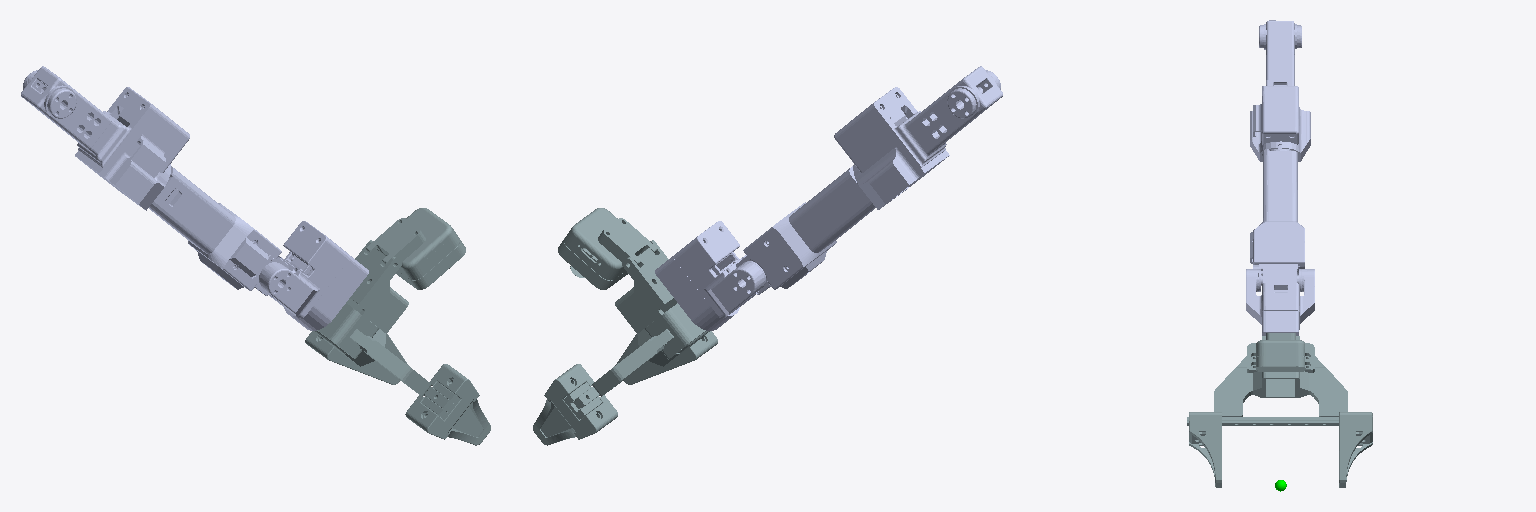
The robot description file, URDF, robot "Alicia_D_v5_6_gripper_100mm":
<?xml version="1.0" encoding="utf-8"?>
<!-- This URDF was automatically created by SolidWorks to URDF Exporter! Originally created by Stephen Brawner (brawner@gmail.com) 
     Commit Version: 1.6.0-4-g7f85cfe  Build Version: 1.6.7995.38578
     For more information, please see http://wiki.ros.org/sw_urdf_exporter -->
<robot
  name="Alicia_D_v5_6_gripper_100mm">
 <mujoco>
    <compiler meshdir="package://alicia_d_descriptions/meshes/Alicia_D_v5_6/gripper_100mm" discardvisual="false" />
    <contact>
      <exclude body1="base_link" body2="Link1"/>
      <exclude body1="Link1" body2="Link2"/>
      <exclude body1="Link2" body2="Link3"/>
      <exclude body1="Link3" body2="Link4"/>
      <exclude body1="Link4" body2="Link5"/>
      <exclude body1="Link5" body2="Link6"/>
      <exclude body1="Link6" body2="left_gripper"/>
      <exclude body1="left_gripper" body2="right_gripper"/>
    </contact>
  </mujoco>



  <link
    name="base_link">
    <inertial>
      <origin
        xyz="-0.000826234810794059 -0.00797844272739653 0.0457675129552246"
        rpy="0 0 0" />
      <mass
        value="0.733961424954529" />
      <inertia
        ixx="0.00138410344771801"
        ixy="5.67201110348386E-05"
        ixz="-5.14360166026408E-07"
        iyy="0.00173617223702126"
        iyz="1.48652204582846E-05"
        izz="0.00274667683204281" />
    </inertial>
    <visual>
      <origin
        xyz="0 0 0"
        rpy="0 0 0" />
      <geometry>
        <mesh
          filename="package://alicia_d_descriptions/meshes/Alicia_D_v5_6/gripper_100mm/base_link.STL" />
      </geometry>
      <material
        name="">
        <color
          rgba="0.807843137254902 0.843137254901961 0.905882352941176 1" />
      </material>
    </visual>
    <collision>
      <origin
        xyz="0 0 0"
        rpy="0 0 0" />
      <geometry>
        <mesh
          filename="package://alicia_d_descriptions/meshes/Alicia_D_v5_6/gripper_100mm/base_link.STL" />
      </geometry>
    </collision>
  </link>
  <link
    name="Link1">
    <inertial>
      <origin
        xyz="0.000230589777408925 1.29106264207593E-05 0.00303135439825203"
        rpy="0 0 0" />
      <mass
        value="0.195233495556057" />
      <inertia
        ixx="0.000258351163283404"
        ixy="8.79399970494642E-07"
        ixz="6.87503893065992E-07"
        iyy="0.000149307749091489"
        iyz="1.07703883392669E-06"
        izz="0.000339791347248474" />
    </inertial>
    <visual>
      <origin
        xyz="0 0 0"
        rpy="0 0 0" />
      <geometry>
        <mesh
          filename="package://alicia_d_descriptions/meshes/Alicia_D_v5_6/gripper_100mm/Link1.STL" />
      </geometry>
      <material
        name="">
        <color
          rgba="0.796078431372549 0.823529411764706 0.937254901960784 1" />
      </material>
    </visual>
    <collision>
      <origin
        xyz="0 0 0"
        rpy="0 0 0" />
      <geometry>
        <mesh
          filename="package://alicia_d_descriptions/meshes/Alicia_D_v5_6/gripper_100mm/Link1.STL" />
      </geometry>
    </collision>
  </link>
  <joint
    name="Joint1"
    type="revolute">
    <origin
      xyz="0 0 0.1295"
      rpy="0 0 0" />
    <parent
      link="base_link" />
    <child
      link="Link1" />
    <axis
      xyz="0 0 1" />
    <limit
      lower="-2.749"
      upper="2.749"
      effort="5"
      velocity="12" />
  </joint>
  <link
    name="Link2">
    <inertial>
      <origin
        xyz="-0.1505886956238 0.000866069014068702 -0.000650950596117093"
        rpy="0 0 0" />
      <mass
        value="0.207033693066089" />
      <inertia
        ixx="0.000128135500182744"
        ixy="-1.38510377197406E-07"
        ixz="-4.91817924862077E-06"
        iyy="0.000205708390606615"
        iyz="3.50025102961721E-07"
        izz="0.000122721347334006" />
    </inertial>
    <visual>
      <origin
        xyz="0 0 0"
        rpy="0 0 0" />
      <geometry>
        <mesh
          filename="package://alicia_d_descriptions/meshes/Alicia_D_v5_6/gripper_100mm/Link2.STL" />
      </geometry>
      <material
        name="">
        <color
          rgba="0.807843137254902 0.843137254901961 0.905882352941176 1" />
      </material>
    </visual>
    <collision>
      <origin
        xyz="0 0 0"
        rpy="0 0 0" />
      <geometry>
        <mesh
          filename="package://alicia_d_descriptions/meshes/Alicia_D_v5_6/gripper_100mm/Link2.STL" />
      </geometry>
    </collision>
  </link>
  <joint
    name="Joint2"
    type="revolute">
    <origin
      xyz="0 0 0.04287"
      rpy="1.5708 1.5708 0" />
    <parent
      link="Link1" />
    <child
      link="Link2" />
    <axis
      xyz="0 0 1" />
    <limit
      lower="-2"
      upper="2"
      effort="5"
      velocity="12" />
  </joint>
  <link
    name="Link3">
    <inertial>
      <origin
        xyz="0.00248143780493948 -0.055786318961577 0.000269721187496484"
        rpy="0 0 0" />
      <mass
        value="0.0845575651613574" />
      <inertia
        ixx="7.61918348100336E-05"
        ixy="2.26498126057066E-06"
        ixz="-3.82299410321316E-07"
        iyy="2.87941469642104E-05"
        iyz="5.38445498652279E-06"
        izz="8.04370650316099E-05" />
    </inertial>
    <visual>
      <origin
        xyz="0 0 0"
        rpy="0 0 0" />
      <geometry>
        <mesh
          filename="package://alicia_d_descriptions/meshes/Alicia_D_v5_6/gripper_100mm/Link3.STL" />
      </geometry>
      <material
        name="">
        <color
          rgba="0.792156862745098 0.819607843137255 0.933333333333333 1" />
      </material>
    </visual>
    <collision>
      <origin
        xyz="0 0 0"
        rpy="0 0 0" />
      <geometry>
        <mesh
          filename="package://alicia_d_descriptions/meshes/Alicia_D_v5_6/gripper_100mm/Link3.STL" />
      </geometry>
    </collision>
  </link>
  <joint
    name="Joint3"
    type="revolute">
    <origin
      xyz="-0.22367 0.022492 -5E-05"
      rpy="0 0 2.3562" />
    <parent
      link="Link2" />
    <child
      link="Link3" />
    <axis
      xyz="0 0 1" />
    <limit
      lower="-0.5"
      upper="3.14159"
      effort="5"
      velocity="12" />
  </joint>
  <link
    name="Link4">
    <inertial>
      <origin
        xyz="-0.000298365512111376 -0.000601368976746215 -0.0659740390150152"
        rpy="0 0 0" />
      <mass
        value="0.0653695951425785" />
      <inertia
        ixx="7.03004188045042E-05"
        ixy="9.68417873789794E-09"
        ixz="-7.50131710418784E-07"
        iyy="6.87470297837511E-05"
        iyz="-4.45271910827907E-08"
        izz="1.68226189340094E-05" />
    </inertial>
    <visual>
      <origin
        xyz="0 0 0"
        rpy="0 0 0" />
      <geometry>
        <mesh
          filename="package://alicia_d_descriptions/meshes/Alicia_D_v5_6/gripper_100mm/Link4.STL" />
      </geometry>
      <material
        name="">
        <color
          rgba="0.792156862745098 0.819607843137255 0.933333333333333 1" />
      </material>
    </visual>
    <collision>
      <origin
        xyz="0 0 0"
        rpy="0 0 0" />
      <geometry>
        <mesh
          filename="package://alicia_d_descriptions/meshes/Alicia_D_v5_6/gripper_100mm/Link4.STL" />
      </geometry>
    </collision>
  </link>
  <joint
    name="Joint4"
    type="revolute">
    <origin
      xyz="-0.00211 -0.099 0.0002"
      rpy="-1.5708 0 0" />
    <parent
      link="Link3" />
    <child
      link="Link4" />
    <axis
      xyz="0 0 1" />
    <limit
      lower="-2.79"
      upper="2.79"
      effort="5"
      velocity="12" />
  </joint>
  <link
    name="Link5">
    <inertial>
      <origin
        xyz="-0.0113684232423691 -0.0308687473010146 0.000870449928863028"
        rpy="0 0 0" />
      <mass
        value="0.050763902309721" />
      <inertia
        ixx="1.87701017069596E-05"
        ixy="-2.01098609554627E-06"
        ixz="5.15226540328947E-08"
        iyy="2.51021034553581E-05"
        iyz="-4.22412453521615E-08"
        izz="1.7257171014064E-05" />
    </inertial>
    <visual>
      <origin
        xyz="0 0 0"
        rpy="0 0 0" />
      <geometry>
        <mesh
          filename="package://alicia_d_descriptions/meshes/Alicia_D_v5_6/gripper_100mm/Link5.STL" />
      </geometry>
      <material
        name="">
        <color
          rgba="0.792156862745098 0.819607843137255 0.933333333333333 1" />
      </material>
    </visual>
    <collision>
      <origin
        xyz="0 0 0"
        rpy="0 0 0" />
      <geometry>
        <mesh
          filename="package://alicia_d_descriptions/meshes/Alicia_D_v5_6/gripper_100mm/Link5.STL" />
      </geometry>
    </collision>
  </link>
  <joint
    name="Joint5"
    type="revolute">
    <origin
      xyz="0 -0.0005 -0.12235"
      rpy="1.5708 0 -3.1416" />
    <parent
      link="Link4" />
    <child
      link="Link5" />
    <axis
      xyz="0 0 -1" />
    <limit
      lower="-1.57"
      upper="1.57"
      effort="5"
      velocity="12" />
  </joint>
  <link
    name="Link6">
    <inertial>
      <origin
        xyz="-0.029248098562467 -0.00016882200980945 0.0345028311825817"
        rpy="0 0 0" />
      <mass
        value="0.119820573151617" />
      <inertia
        ixx="8.13589561206242E-05"
        ixy="1.00502626880445E-08"
        ixz="-3.58286144151259E-06"
        iyy="3.33372461494345E-05"
        iyz="2.08982135984784E-08"
        izz="8.69091055900091E-05" />
    </inertial>
    <visual>
      <origin
        xyz="0 0 0"
        rpy="0 0 0" />
      <geometry>
        <mesh
          filename="package://alicia_d_descriptions/meshes/Alicia_D_v5_6/gripper_100mm/Link6.STL" />
      </geometry>
      <material
        name="">
        <color
          rgba="0.592156862745098 0.666666666666667 0.682352941176471 1" />
      </material>
    </visual>
    <collision>
      <origin
        xyz="0 0 0"
        rpy="0 0 0" />
      <geometry>
        <mesh
          filename="package://alicia_d_descriptions/meshes/Alicia_D_v5_6/gripper_100mm/Link6.STL" />
      </geometry>
    </collision>
  </link>
  <joint
    name="Joint6"
    type="revolute">
    <origin
      xyz="-0.00385 -0.0575 0.001"
      rpy="1.5708 0 0" />
    <parent
      link="Link5" />
    <child
      link="Link6" />
    <axis
      xyz="0 0 -1" />
    <limit
      lower="-3.14159"
      upper="3.14159"
      effort="5"
      velocity="12" />
  </joint>
  <link
    name="left_gripper">
    <inertial>
      <origin
        xyz="2.97087515699346E-08 -0.0434087591943531 -0.0106596716155943"
        rpy="0 0 0" />
      <mass
        value="0.0256461121677845" />
      <inertia
        ixx="6.46830326573706E-06"
        ixy="-2.39543801082248E-11"
        ixz="4.63721305647814E-12"
        iyy="5.13428741941763E-06"
        iyz="-1.26432048814164E-06"
        izz="8.03606347912521E-06" />
    </inertial>
    <visual>
      <origin
        xyz="0 0 0"
        rpy="0 0 0" />
      <geometry>
        <mesh
          filename="package://alicia_d_descriptions/meshes/Alicia_D_v5_6/gripper_100mm/left_gripper.STL" />
      </geometry>
      <material
        name="">
        <color
          rgba="0.592156862745098 0.666666666666667 0.682352941176471 1" />
      </material>
    </visual>
    <collision>
      <origin
        xyz="0 0 0"
        rpy="0 0 0" />
      <geometry>
        <mesh
          filename="package://alicia_d_descriptions/meshes/Alicia_D_v5_6/gripper_100mm/left_gripper.STL" />
      </geometry>
    </collision>
  </link>
  <joint
    name="Gripper"
    type="prismatic">
    <origin
      xyz="-0.000200000000001088 -0.050497849845622 0.130979659620446"
      rpy="1.5707963267949 0 3.14159265358979" />
    <parent
      link="Link6" />
    <child
      link="left_gripper" />
    <axis
      xyz="0 0 1" />
    <limit
      lower="0"
      upper="0.05"
      effort="5"
      velocity="12" />
  </joint>
  <link
    name="right_gripper">
    <inertial>
      <origin
        xyz="-2.97087526801576E-08 0.0434087591943507 -0.0106596716155944"
        rpy="0 0 0" />
      <mass
        value="0.0256461121677874" />
      <inertia
        ixx="6.46830326573819E-06"
        ixy="-2.39543798316685E-11"
        ixz="-4.6372128498014E-12"
        iyy="5.13428741941821E-06"
        iyz="1.26432048814209E-06"
        izz="8.036063479126E-06" />
    </inertial>
    <visual>
      <origin
        xyz="0 0 0"
        rpy="0 0 0" />
      <geometry>
        <mesh
          filename="package://alicia_d_descriptions/meshes/Alicia_D_v5_6/gripper_100mm/right_gripper.STL" />
      </geometry>
      <material
        name="">
        <color
          rgba="0.592156862745098 0.666666666666667 0.682352941176471 1" />
      </material>
    </visual>
    <collision>
      <origin
        xyz="0 0 0"
        rpy="0 0 0" />
      <geometry>
        <mesh
          filename="package://alicia_d_descriptions/meshes/Alicia_D_v5_6/gripper_100mm/right_gripper.STL" />
      </geometry>
    </collision>
  </link>
  <joint
    name="right_finger"
    type="prismatic">
    <origin
      xyz="-0.000199999999998035 0.050502150154378 0.130979659620446"
      rpy="-1.5707963267949 0 3.14159265358978" />
    <parent
      link="Link6" />
    <child
      link="right_gripper" />
    <axis
      xyz="0 0 -1" />
    <limit
      lower="-0.05"
      upper="0"
      effort="5"
      velocity="12" />
    <mimic joint="Gripper" multiplier="-1" offset="0"/>

  </joint>
   <link
    name="tool0">
    <visual>
      <origin
        xyz="0 0 0"
        rpy="0 0 0" />
      <geometry>
        <sphere radius="0.005" />
      </geometry>
      <material
        name="green_virtual_sphere_material">
        <color
          rgba="0 1 0 1" />
      </material>
    </visual>
  </link>

  <joint
    name="finger"
    type="fixed">
    <origin
      xyz="-0.0002 0 0.13098"
      rpy="0 0 0" />
    <parent
      link="Link6" />
    <child
      link="tool0" />
    <axis
      xyz="0 0 0" />
  </joint>
</robot>

--- Facts derived from the render (not from the file) ---
Views: 3 orthographic renders of the robot side by side, from view 1: azimuth 30°, elevation 25°; view 2: azimuth 150°, elevation 25°; view 3: azimuth 270°, elevation 25°.
Robot: Alicia_D_v5_6_gripper_100mm — 10 links, 9 joints (6 revolute, 2 prismatic, 1 fixed); root link base_link; default pose: all joints at 0.
Links seen in each view (by area): view 1: Link6, Link3, Link4, Link5, left_gripper, right_gripper; view 2: Link6, Link3, Link4, Link5, right_gripper, left_gripper; view 3: Link6, Link3, Link4, Link5, right_gripper, left_gripper.
Boxes of the visible links, x1,y1,x2,y2 form: Link6: [314, 208, 465, 412]; Link3: [21, 66, 189, 210]; Link4: [149, 166, 288, 295]; Link5: [260, 221, 368, 330]; left_gripper: [405, 364, 490, 445]; right_gripper: [305, 331, 408, 384]; Link6: [558, 208, 709, 408]; Link3: [834, 66, 1002, 209]; Link4: [736, 166, 875, 294]; Link5: [655, 221, 764, 330]; right_gripper: [533, 364, 617, 445]; left_gripper: [615, 331, 717, 384]; Link6: [1187, 333, 1347, 425]; Link3: [1250, 20, 1310, 161]; Link4: [1250, 145, 1304, 291]; Link5: [1246, 269, 1314, 335]; right_gripper: [1339, 412, 1372, 487]; left_gripper: [1189, 412, 1221, 487].
Bounding box of the posed robot: 0.3152 × 0.1586 × 0.309 m (x, y, z).
6 mesh visuals loaded from 9 distinct referenced files (6 binary STL); not drawn: 3 (reference not matched to a file when rendering).
